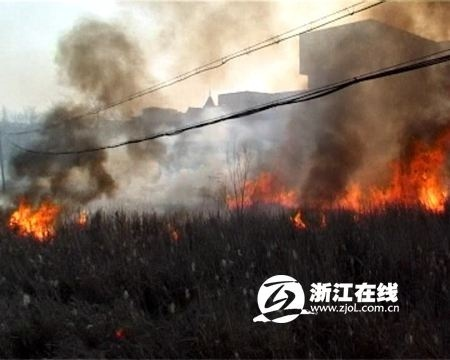fire: (339, 127, 449, 214), (225, 171, 307, 228), (6, 196, 69, 239)
